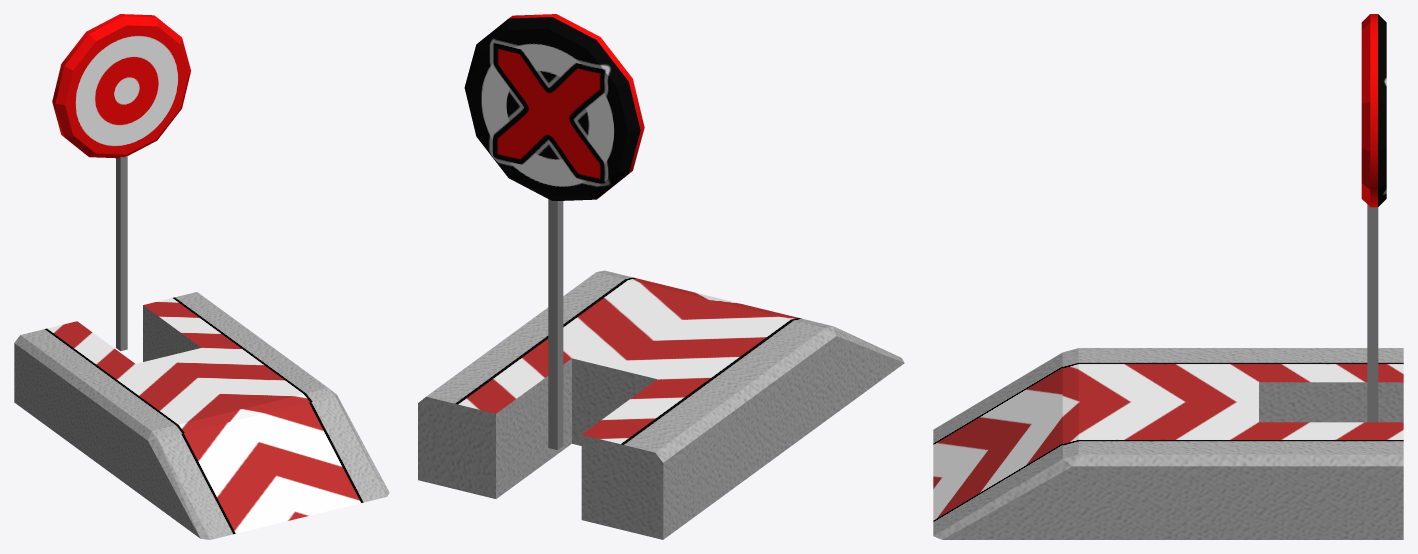
The model's file is Target_.FBX.
The picture shows the model from 3 angles, left to right: view 1: azimuth 30°, elevation 25°; view 2: azimuth 150°, elevation 25°; view 3: azimuth 270°, elevation 25°; orthographic projection. The views are drawn at different scales.
Visible parts, largest first — view 1: Target_base, Target_top; view 2: Target_base, Target_top; view 3: Target_base, Target_top.
Part boxes in pixels (x1,y1,x2,y2): Target_base: (14,292,389,539); Target_top: (52,14,190,351); Target_base: (418,270,904,539); Target_top: (464,14,644,449); Target_base: (933,348,1403,539); Target_top: (1361,14,1386,422).
Size of the model in its own units: 30.86 by 58.12 by 53.72.
